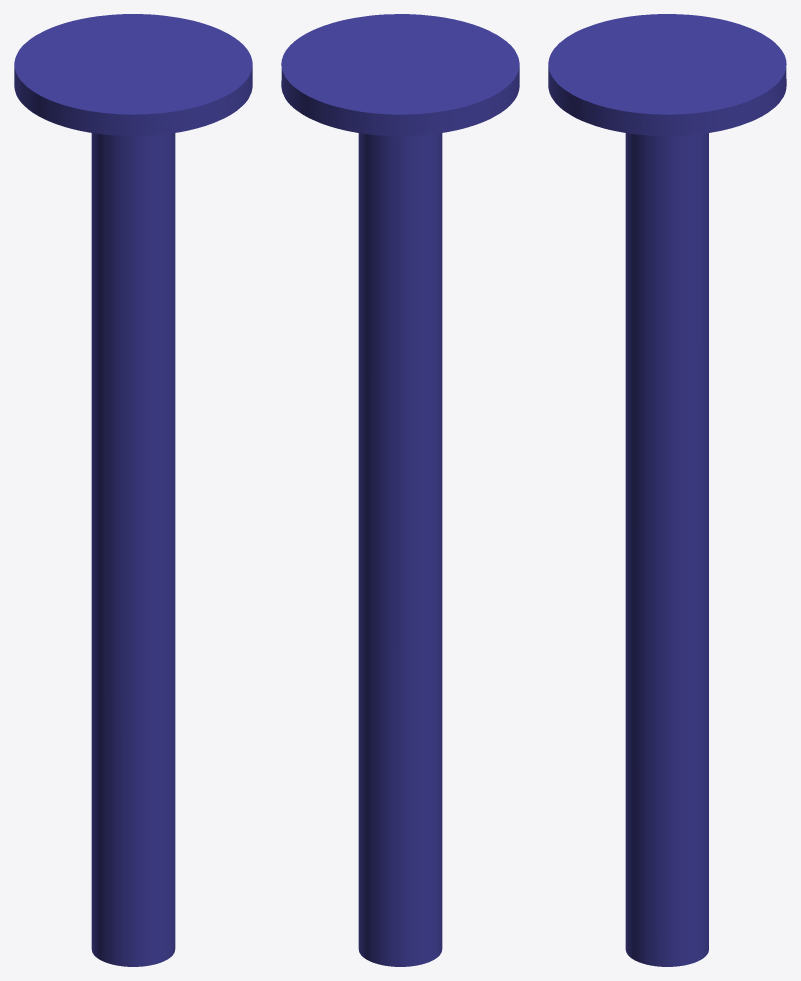
File: RodAttack.fbx
3 views of the same model, side by side, from view 1: azimuth 30°, elevation 25°; view 2: azimuth 150°, elevation 25°; view 3: azimuth 270°, elevation 25° (orthographic).
Parts seen in each view (by area): view 1: Rod Attack; view 2: Rod Attack; view 3: Rod Attack.
Part boxes in pixels (left/top/right/bottom): Rod Attack: left=14, top=14, right=252, bottom=966; Rod Attack: left=281, top=14, right=519, bottom=966; Rod Attack: left=548, top=14, right=786, bottom=966.
Bounding box in the file's own units: 19.98 × 82 × 19.99.
